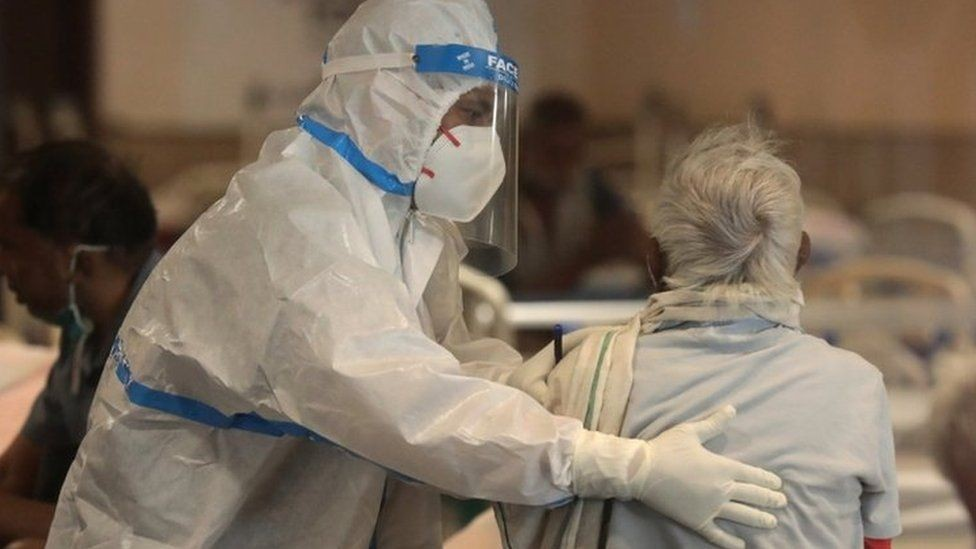Coverall: (43, 2, 581, 549)
Face_Shield: (368, 45, 525, 274)
Gloves: (564, 399, 791, 549)
with_mask: (416, 98, 510, 232)
